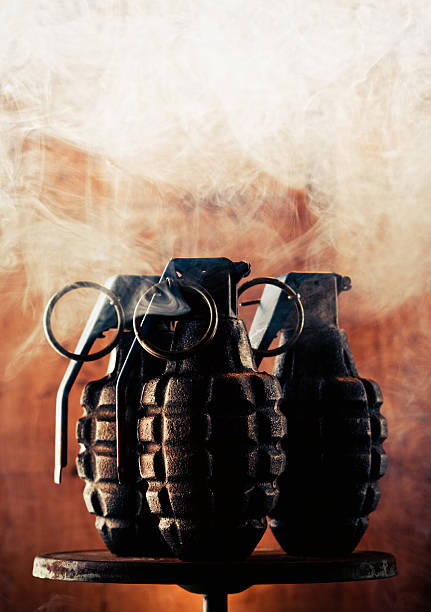e1: (111, 253, 284, 560)
